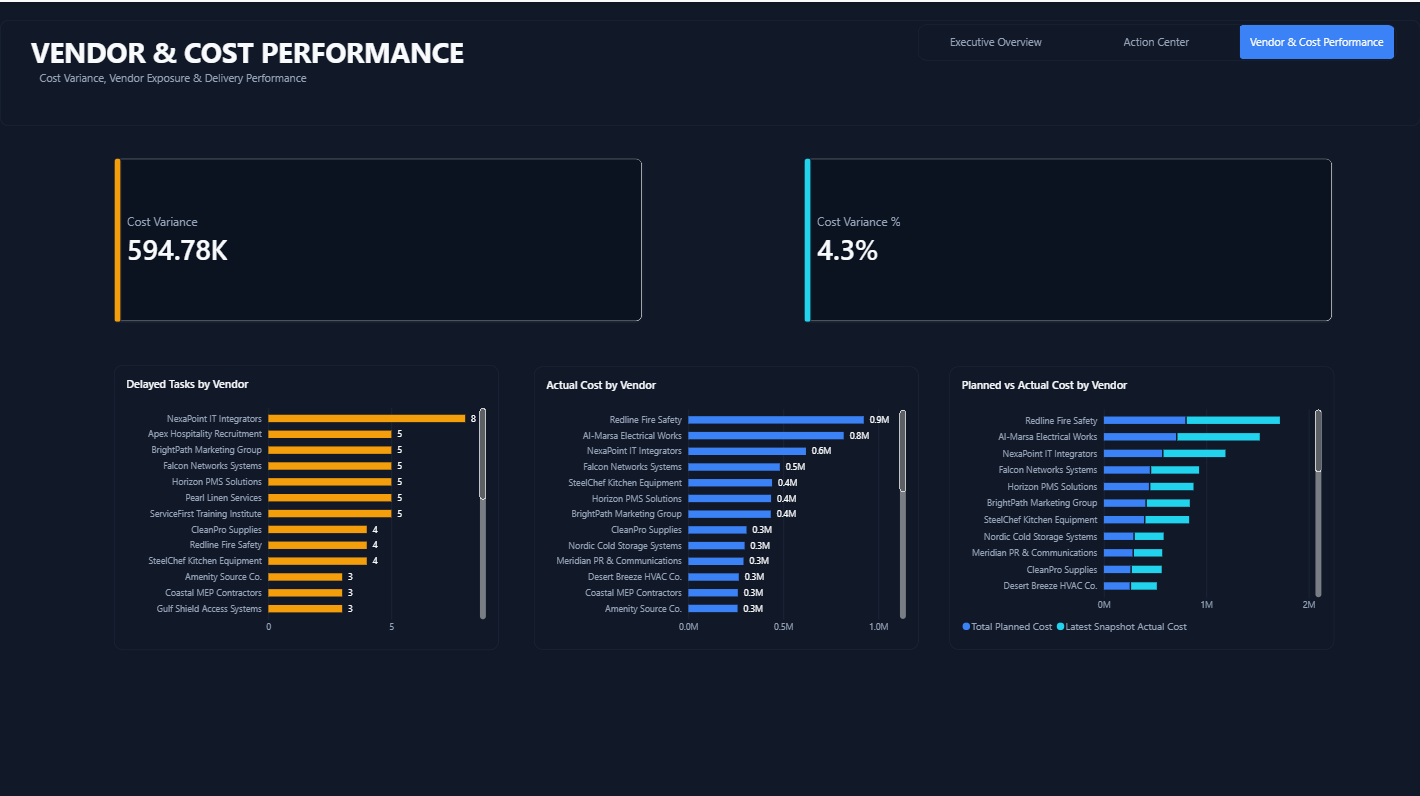

What the dashboard file says about the page in this screenshot:
{"tool":"powerbi","page":{"name":"Vendor & Cost Performance","canvas":[1920,1080],"ordinal":2},"visuals":[{"type":"barChart","title":"Actual Cost by Vendor","fields":{"Category":["Vendors.Vendor_Name"],"Y":["Departments.Latest Snapshot Actual Cost"]},"box":[722.5,492.5,520,382.5],"z":0},{"type":"barChart","title":"Planned vs Actual Cost by Vendor","fields":{"Category":["Vendors.Vendor_Name"],"Y":["Departments.Total Planned Cost","Departments.Latest Snapshot Actual Cost"]},"box":[1282.5,492.5,520,382.5],"z":1000},{"type":"cardVisual","fields":{"Data":["Departments.Cost Variance"]},"box":[155,210,715,222.5],"z":2000},{"type":"cardVisual","fields":{"Data":["Departments.Cost Variance %"]},"box":[1087.5,210,715,222.5],"z":3000},{"type":"clusteredBarChart","title":"Delayed Tasks by Vendor","fields":{"Category":["Vendors.Vendor_Name"],"Y":["Departments.Delayed Tasks"]},"box":[155,490,520,385],"z":4000},{"type":"textbox","box":[0,23.3,1920,143.3],"z":5000},{"type":"shape","box":[155,210,10,222.5],"z":5001},{"type":"shape","box":[1087.5,210,10,222.5],"z":5002},{"type":"pageNavigator","box":[1286.7,30,600,50],"z":5003}]}

Visuals, with their boxes in screenshot pixels (x1, y1, x2, y2), scaled from the page's 1920x1080 canvas onto the 1420x796 screenshot:
"Actual Cost by Vendor" barChart: 534:363:919:645
"Planned vs Actual Cost by Vendor" barChart: 949:363:1333:645
cardVisual - Departments.Cost Variance: 115:155:643:319
cardVisual - Departments.Cost Variance %: 804:155:1333:319
"Delayed Tasks by Vendor" clusteredBarChart: 115:361:499:645
textbox: 0:17:1419:123
shape: 115:155:122:319
shape: 804:155:812:319
pageNavigator: 952:22:1395:59
